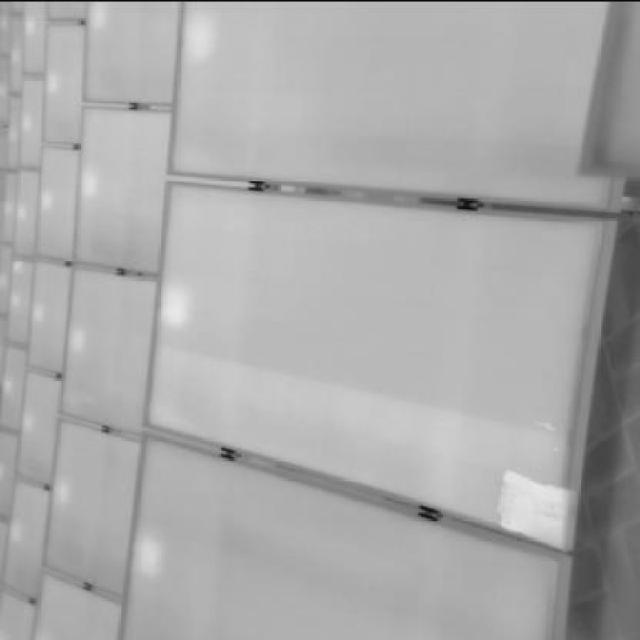hotspot: (498, 468, 580, 554), (156, 284, 195, 328)
